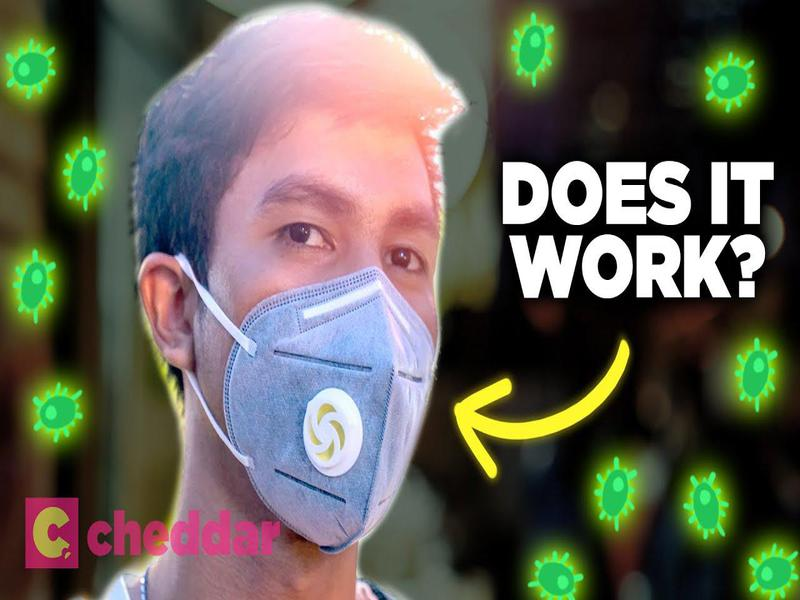with_mask: (137, 21, 444, 550)
